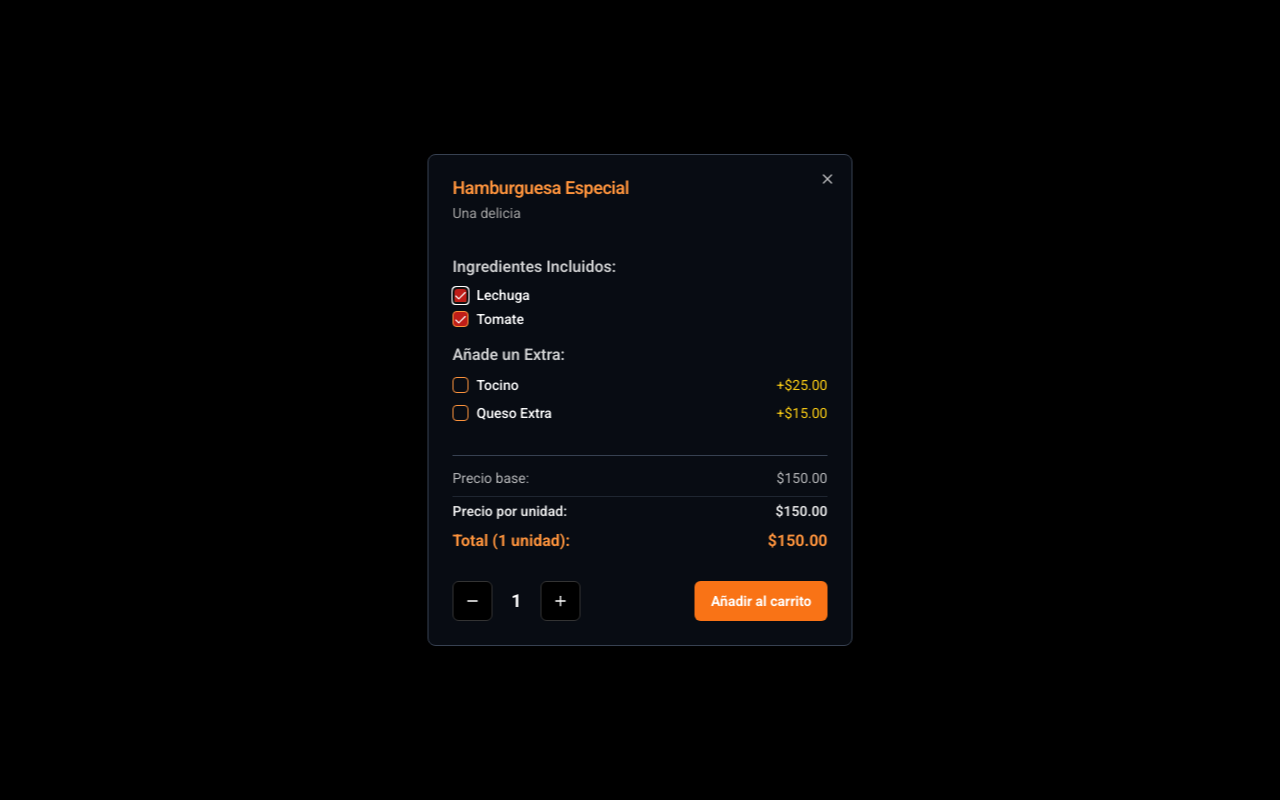
Test case: ProductCustomizationDialog › updates the price when an extra is selected
The image size is (1280, 800).
Click the checkbox named "Tocino" next to "Tocino" at (460, 385), box [452,377,468,393]
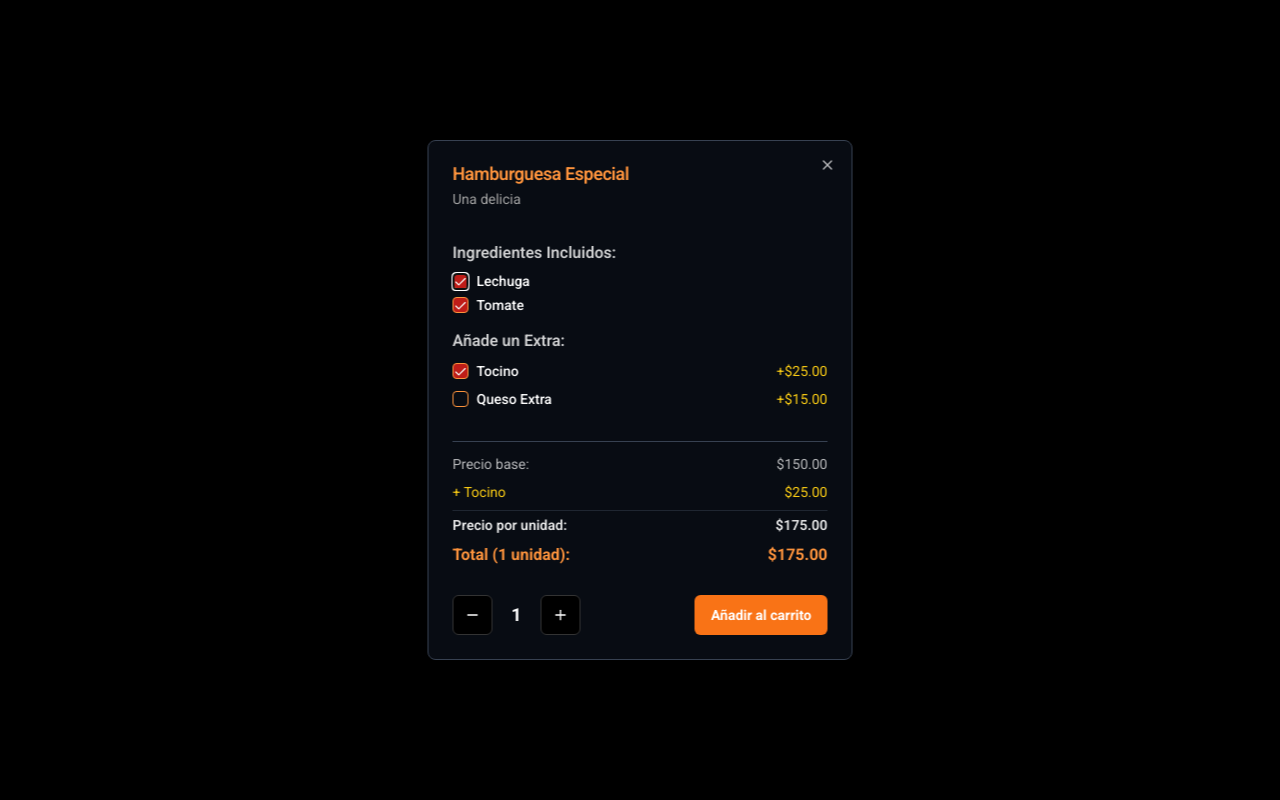
Check: the text "$175.00" in the row of "Precio por unidad:" is shown, box [776,515,828,535]
